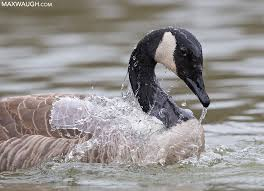goose: (1, 24, 211, 175)
